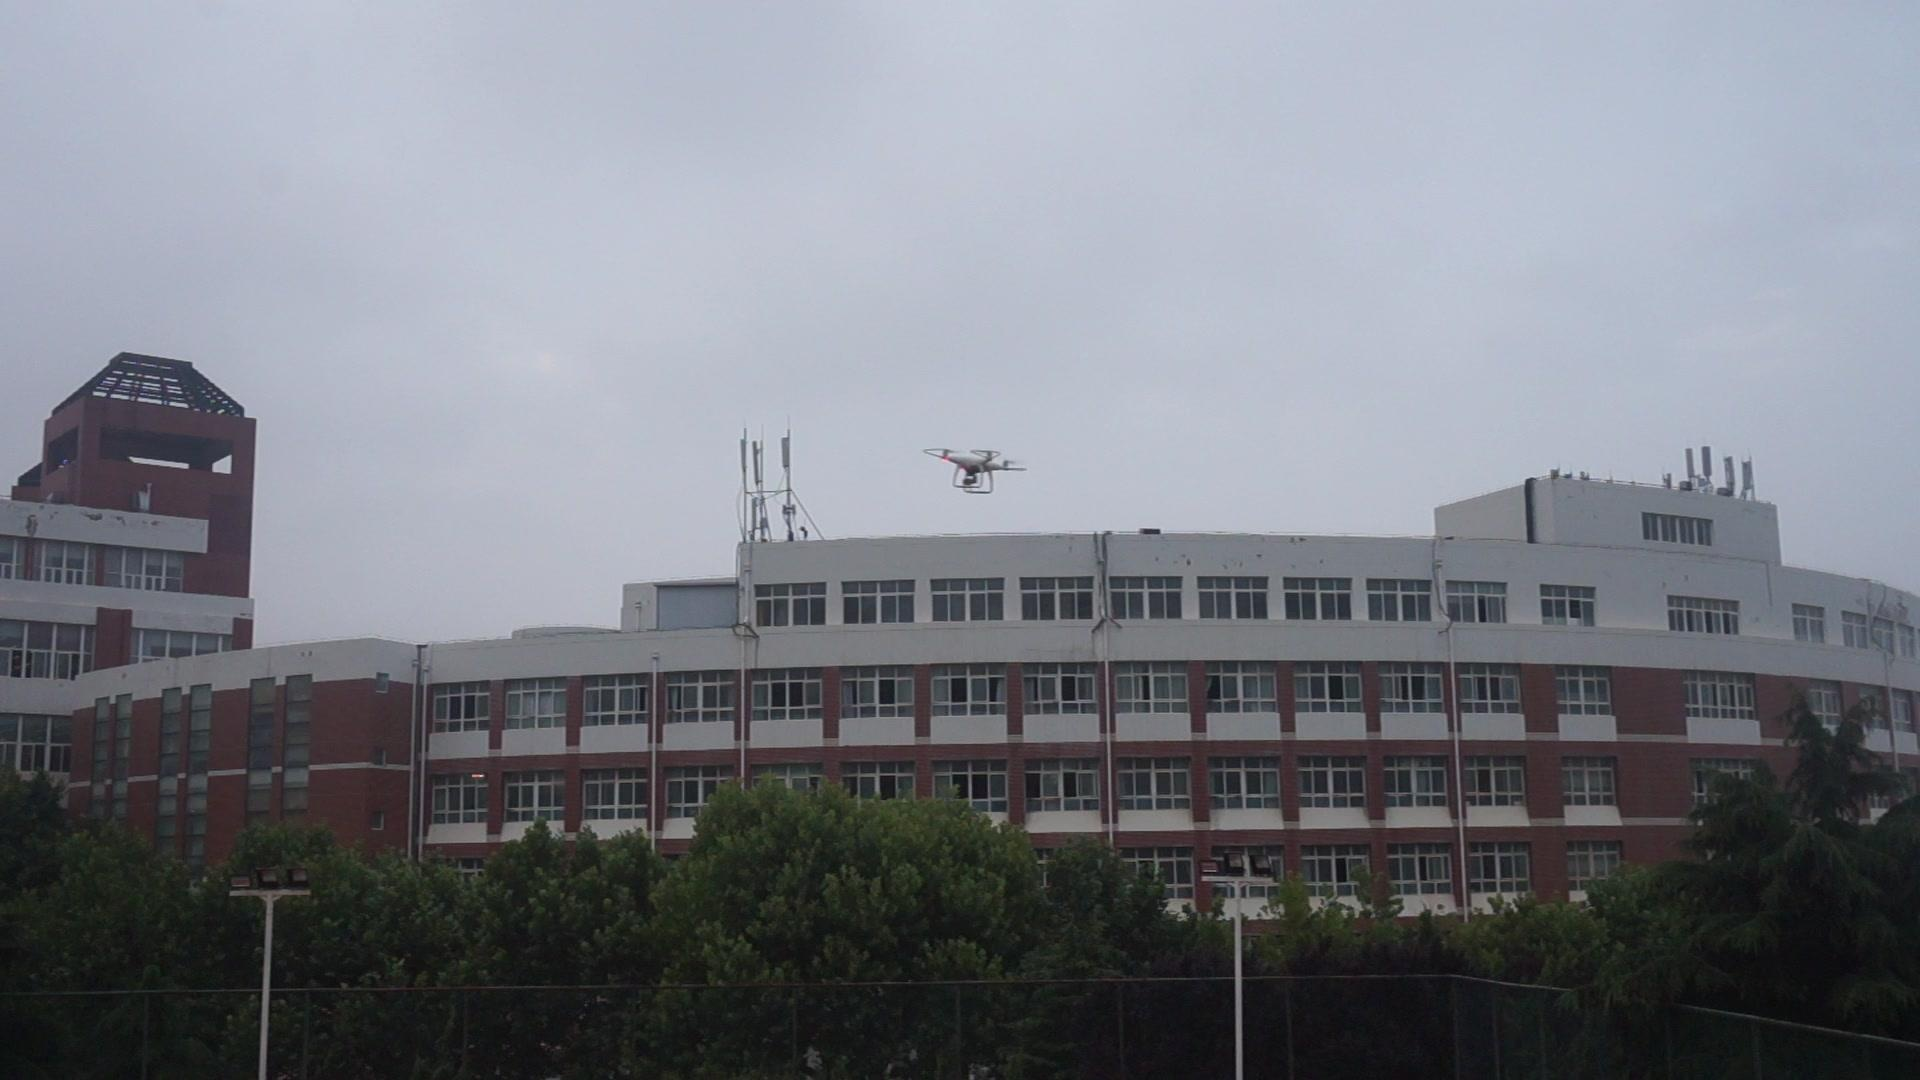UAV: (923, 448, 1029, 495)
